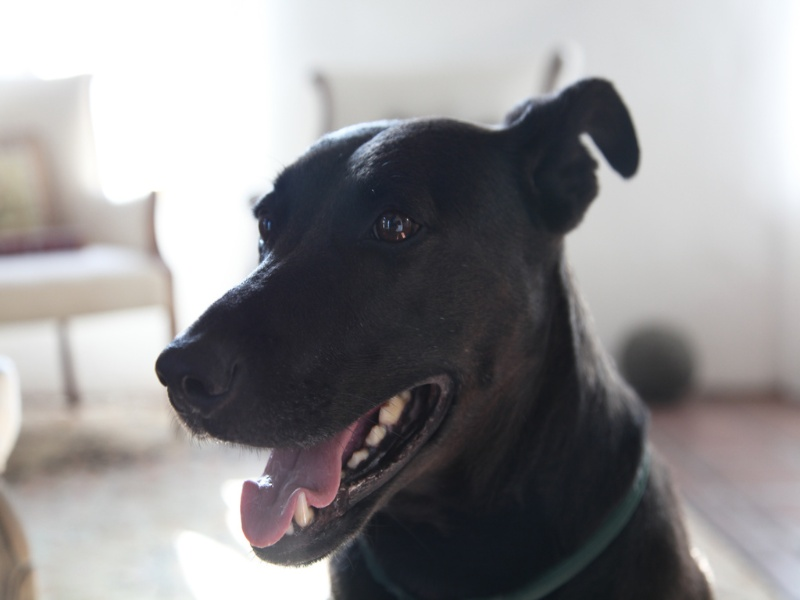dog: (156, 73, 710, 600)
